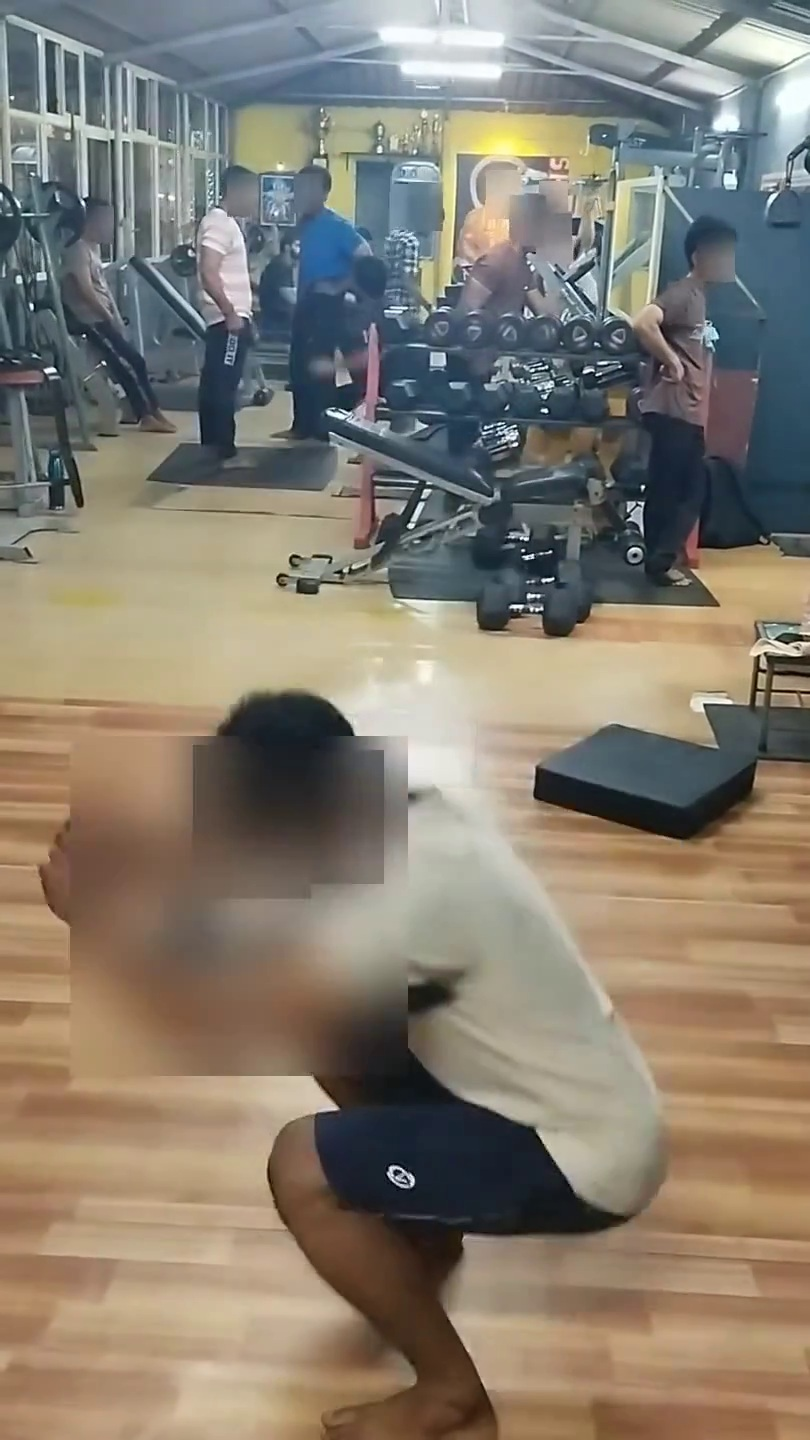squat_incorrect: (118, 762, 618, 1440)
